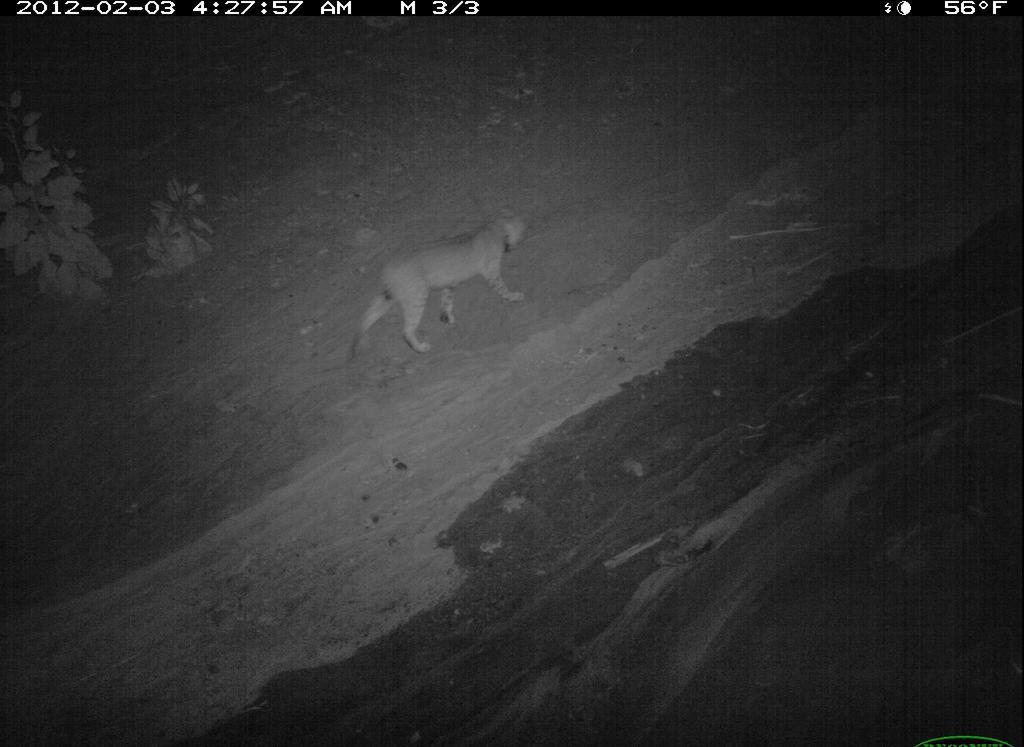bobcat: (685, 400, 1024, 737)
